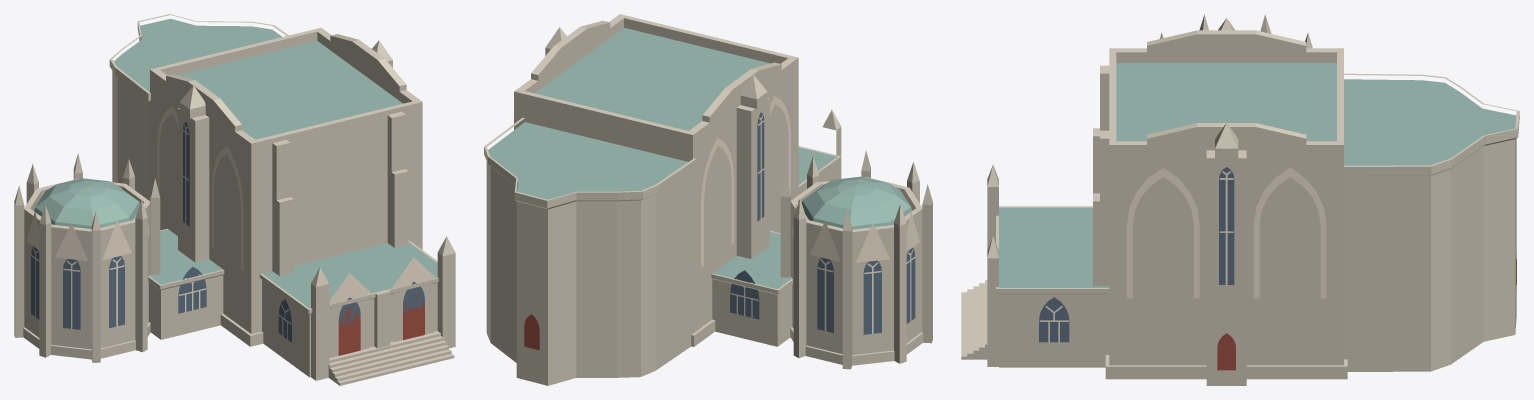
The model's file is pit-stephen-foster-memorial.glb.
3 views of the same model, side by side, from view 1: azimuth 30°, elevation 25°; view 2: azimuth 150°, elevation 25°; view 3: azimuth 270°, elevation 25° (orthographic). The views are drawn at different scales.
Visible parts, largest first — view 1: Stephen Foster Memorial; view 2: Stephen Foster Memorial; view 3: Stephen Foster Memorial.
Boxes of the visible parts, <box> form: Stephen Foster Memorial: <box>14,14,455,385</box>; Stephen Foster Memorial: <box>484,14,932,385</box>; Stephen Foster Memorial: <box>961,14,1519,385</box>.
Size of the model in its own units: 40.61 by 24.4 by 47.55.
